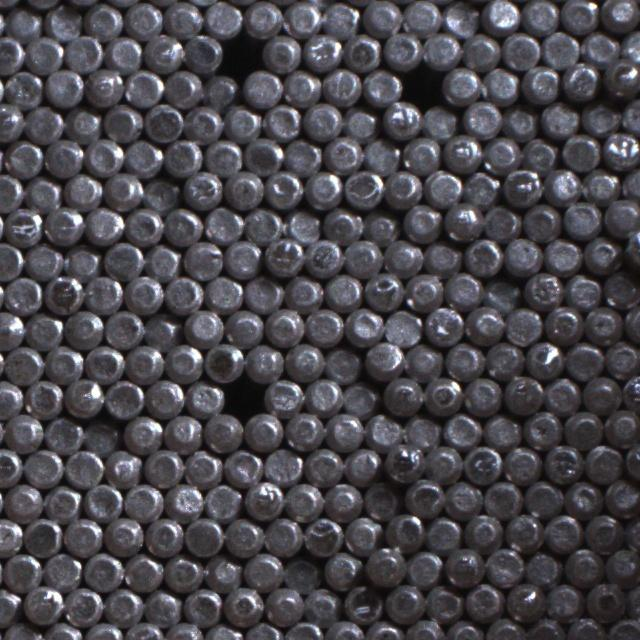tool: (584, 578, 625, 619), (424, 304, 464, 345), (4, 344, 44, 384), (384, 582, 424, 622), (223, 447, 263, 487), (104, 378, 144, 418), (542, 442, 582, 482), (103, 514, 143, 554), (484, 546, 524, 586), (202, 410, 242, 450), (42, 550, 82, 590), (223, 584, 263, 624), (482, 478, 522, 518), (583, 510, 623, 550), (524, 338, 564, 378), (24, 377, 63, 418), (464, 581, 504, 620), (164, 552, 203, 592), (284, 409, 323, 449), (64, 376, 103, 416), (42, 205, 82, 244), (584, 442, 623, 482), (84, 550, 123, 590), (203, 204, 243, 243), (504, 373, 543, 413), (63, 585, 102, 625), (23, 584, 62, 624), (443, 546, 483, 585), (24, 103, 64, 142), (143, 448, 182, 488), (4, 68, 44, 107), (463, 374, 502, 414), (463, 442, 502, 482), (265, 584, 304, 624), (402, 202, 441, 242), (102, 103, 142, 142), (502, 167, 542, 206), (382, 29, 421, 69), (44, 67, 84, 106), (224, 308, 264, 347), (183, 239, 222, 279), (43, 136, 82, 176), (582, 373, 622, 412), (143, 516, 182, 556), (264, 236, 304, 275), (405, 476, 444, 516), (44, 273, 83, 313), (23, 514, 62, 554), (4, 411, 44, 450), (524, 478, 563, 518), (243, 134, 282, 174), (381, 443, 421, 482), (244, 478, 282, 519), (263, 445, 302, 484), (63, 171, 102, 210), (304, 306, 343, 345), (84, 205, 123, 244), (184, 305, 223, 344), (364, 546, 403, 585), (463, 98, 502, 137), (124, 552, 163, 591), (85, 343, 124, 382), (164, 273, 203, 312), (183, 169, 222, 208), (404, 548, 443, 587), (85, 66, 124, 105), (64, 307, 103, 346), (124, 68, 163, 107), (4, 274, 43, 313), (284, 272, 323, 311), (562, 198, 601, 237), (283, 481, 322, 520), (84, 273, 123, 312), (123, 481, 162, 520), (364, 338, 403, 377), (443, 340, 482, 379), (24, 448, 63, 487), (401, 134, 440, 173), (342, 32, 381, 71), (501, 31, 540, 70), (480, 65, 519, 104), (63, 516, 102, 555), (43, 344, 82, 383), (261, 33, 300, 72), (520, 64, 559, 103), (183, 32, 222, 71), (303, 514, 342, 553), (145, 102, 184, 141), (2, 551, 41, 590), (103, 585, 142, 624), (203, 553, 242, 592), (3, 205, 42, 244), (523, 409, 562, 448), (385, 511, 424, 550), (84, 136, 123, 175), (341, 584, 380, 623), (123, 413, 162, 452), (564, 340, 603, 379), (223, 516, 262, 555), (323, 479, 362, 518), (243, 343, 282, 382), (203, 343, 242, 382), (423, 443, 462, 482), (543, 374, 581, 414), (442, 410, 482, 448), (563, 545, 601, 585), (544, 302, 582, 342), (466, 302, 504, 342), (544, 580, 582, 620), (145, 376, 183, 416), (84, 479, 122, 519), (343, 168, 381, 208), (4, 138, 42, 178), (382, 376, 422, 414), (405, 270, 443, 310), (243, 550, 281, 590), (184, 102, 222, 142), (504, 510, 542, 550), (162, 137, 202, 175), (423, 375, 461, 415), (602, 406, 640, 446), (262, 516, 302, 554), (285, 340, 323, 380), (506, 578, 544, 618), (602, 270, 640, 310), (541, 29, 579, 68), (204, 480, 242, 519), (364, 270, 403, 308), (265, 306, 303, 345), (162, 207, 200, 246), (384, 307, 422, 346), (282, 67, 320, 106), (561, 132, 600, 170), (304, 446, 343, 484), (64, 447, 102, 486), (303, 101, 341, 140), (421, 30, 459, 69), (104, 170, 142, 209), (383, 168, 422, 206), (444, 270, 482, 309), (205, 273, 243, 312), (544, 511, 582, 550), (583, 304, 622, 342), (164, 342, 202, 381), (442, 133, 481, 171), (382, 100, 421, 138), (3, 482, 42, 520), (463, 510, 502, 548), (183, 586, 221, 625), (104, 308, 142, 347), (166, 479, 204, 518), (523, 548, 561, 587), (125, 343, 163, 382), (302, 31, 340, 70), (443, 478, 481, 517), (304, 169, 342, 208), (503, 306, 542, 344), (103, 241, 142, 279), (142, 587, 181, 625), (124, 205, 162, 244), (522, 202, 560, 241), (323, 271, 362, 309), (483, 411, 522, 449), (602, 56, 640, 95), (344, 306, 382, 345), (322, 66, 360, 105), (105, 33, 144, 71), (524, 270, 562, 309), (24, 310, 63, 348), (424, 582, 462, 621), (602, 196, 640, 235), (184, 515, 222, 554), (164, 412, 202, 451), (304, 236, 342, 275), (25, 33, 63, 72), (482, 202, 520, 241), (483, 340, 522, 378), (223, 238, 262, 276), (44, 415, 83, 453), (64, 104, 102, 143), (401, 412, 440, 450), (563, 408, 601, 447), (404, 341, 442, 380), (581, 98, 620, 136), (44, 482, 82, 521), (142, 173, 180, 212), (561, 61, 599, 100), (325, 205, 363, 244), (244, 206, 282, 245), (44, 1, 82, 40), (242, 69, 280, 107), (163, 68, 201, 106), (362, 67, 400, 105), (264, 169, 302, 207), (343, 445, 381, 483), (263, 101, 301, 139), (63, 242, 101, 280), (185, 378, 223, 416), (441, 66, 479, 104), (184, 447, 222, 485), (265, 376, 303, 414), (244, 274, 282, 312), (462, 169, 500, 207), (543, 236, 581, 274), (321, 0, 359, 38), (540, 100, 578, 138), (443, 202, 481, 240), (144, 32, 182, 70), (362, 482, 400, 520), (520, 135, 558, 173), (222, 102, 260, 140), (142, 242, 180, 280), (342, 514, 380, 552), (343, 238, 381, 276), (602, 130, 640, 168), (243, 0, 281, 38), (481, 135, 519, 173), (224, 170, 262, 208), (421, 102, 459, 140), (203, 137, 241, 175), (25, 242, 63, 280), (323, 134, 361, 172), (362, 206, 400, 244), (125, 274, 163, 312), (464, 237, 502, 275), (564, 478, 602, 516), (24, 174, 62, 212), (322, 345, 360, 383), (581, 234, 619, 272), (504, 236, 542, 274), (142, 310, 180, 348), (424, 168, 462, 206), (124, 138, 162, 176), (503, 445, 541, 483), (302, 584, 340, 622), (223, 32, 261, 70), (401, 66, 439, 104), (461, 31, 498, 70), (243, 412, 282, 449), (603, 542, 640, 581), (604, 476, 640, 516), (204, 0, 242, 37), (565, 271, 602, 309), (84, 1, 122, 38), (164, 0, 202, 37), (305, 375, 342, 413), (64, 33, 102, 70), (543, 166, 581, 203), (124, 1, 162, 38), (580, 29, 618, 66), (284, 207, 322, 244), (341, 379, 378, 417), (581, 165, 619, 202), (105, 448, 143, 485), (201, 71, 239, 108), (603, 338, 640, 376), (326, 411, 364, 448), (283, 136, 321, 173), (362, 136, 400, 173), (322, 550, 359, 588), (82, 418, 119, 456), (502, 102, 539, 140), (424, 515, 462, 552), (483, 276, 521, 313), (282, 555, 320, 592), (224, 375, 261, 413), (384, 238, 423, 274), (5, 3, 42, 40), (283, 0, 321, 36), (342, 104, 378, 142), (362, 0, 401, 35), (366, 411, 402, 448), (442, 0, 479, 36), (424, 238, 461, 274), (402, 0, 440, 35), (520, 0, 558, 34), (482, 0, 520, 34), (559, 0, 597, 33), (600, 0, 639, 31), (564, 614, 604, 640), (484, 614, 524, 640), (0, 308, 25, 348), (0, 102, 24, 142), (404, 616, 444, 640), (0, 240, 24, 280), (524, 616, 564, 640), (0, 34, 25, 72), (0, 172, 24, 211), (363, 617, 403, 640), (605, 614, 640, 640), (323, 617, 362, 640), (0, 447, 22, 486), (0, 379, 22, 418), (444, 618, 482, 640), (0, 516, 22, 554), (283, 619, 322, 640), (3, 620, 42, 640), (125, 620, 164, 640), (164, 620, 202, 640), (0, 586, 20, 624), (243, 620, 281, 640), (84, 620, 122, 640), (41, 621, 80, 640), (621, 96, 640, 134), (621, 163, 640, 200), (622, 371, 640, 410), (204, 622, 242, 640), (623, 301, 640, 341), (623, 226, 640, 266), (622, 27, 640, 64)
